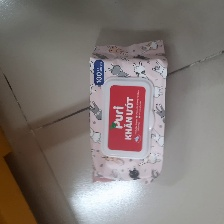Puri hong: (87, 38, 168, 185)
